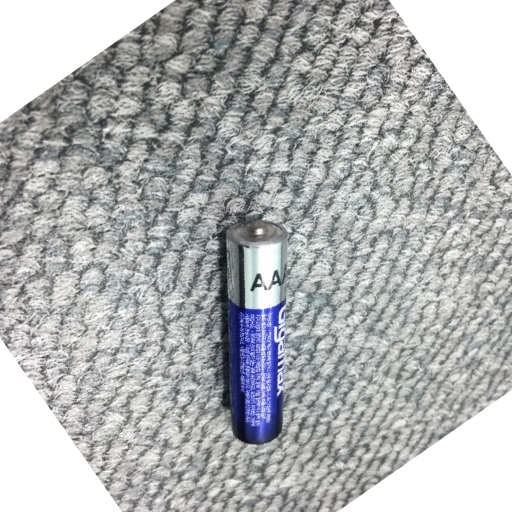Battery_0: (206, 207, 296, 458)
